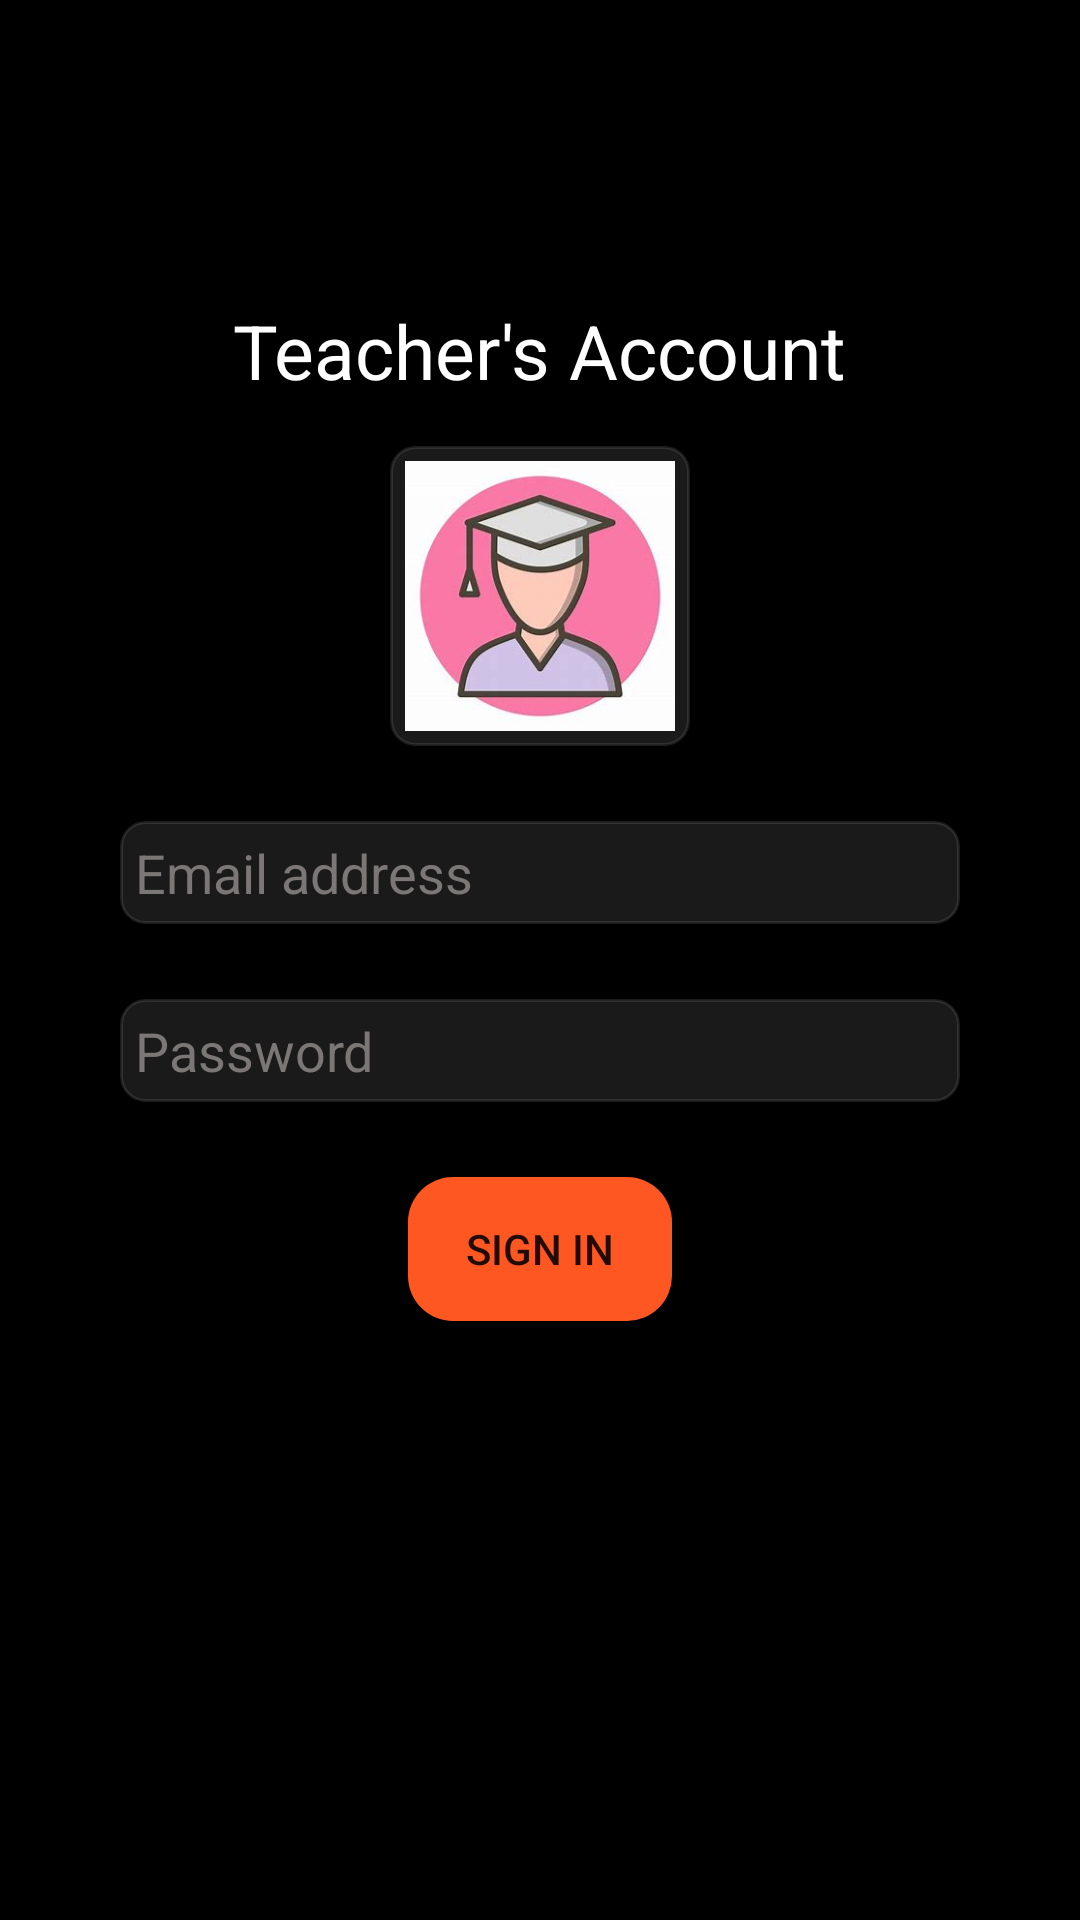

Point at icon controls on the screen. Image size 1080w x 1920h, points as [x,y].
student: [540,596]
